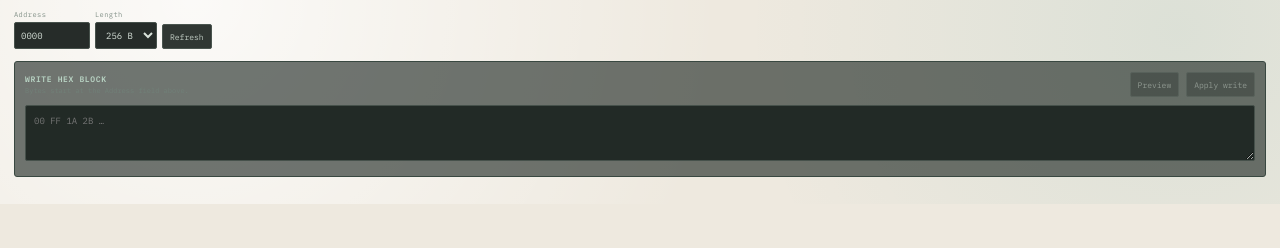
bulk memory editing › shows parser errors without writing
In the text box named "Hex bytes": (640, 133) [25, 105, 1255, 161], type "00 0x01"
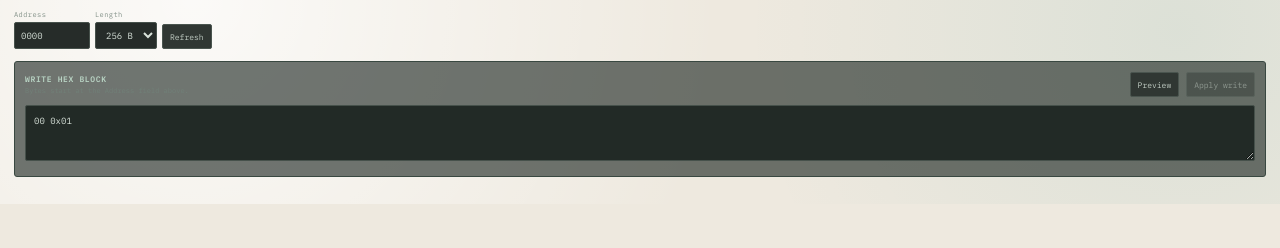
Click the button "Preview": (1154, 84) [1130, 72, 1179, 97]
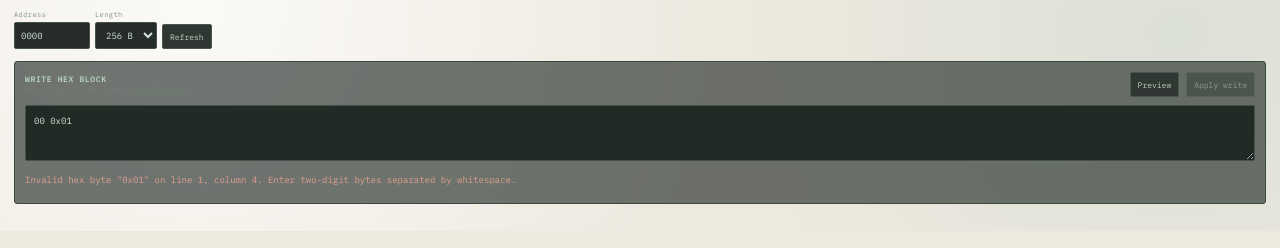
Now the message shows "Invalid hex byte \"0x01\" on line 1", box [25, 174, 516, 185]
